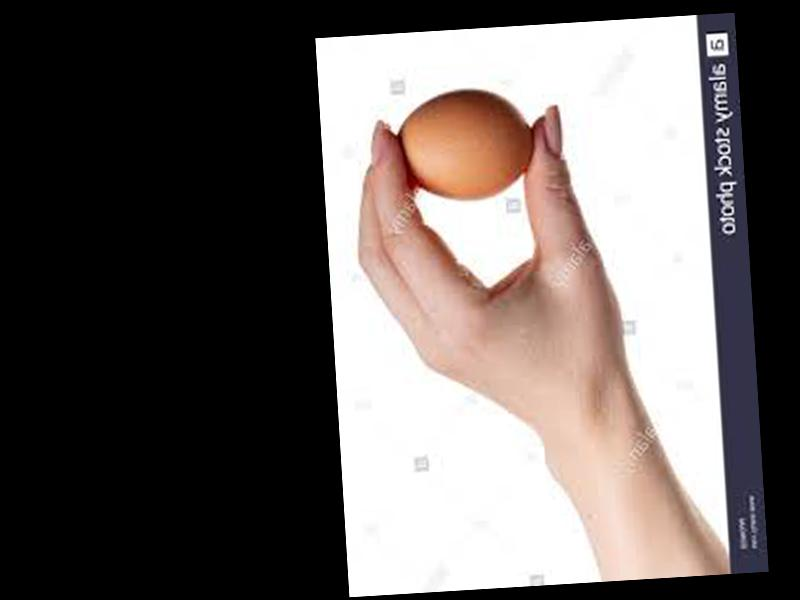Eggs: (395, 87, 533, 207)
